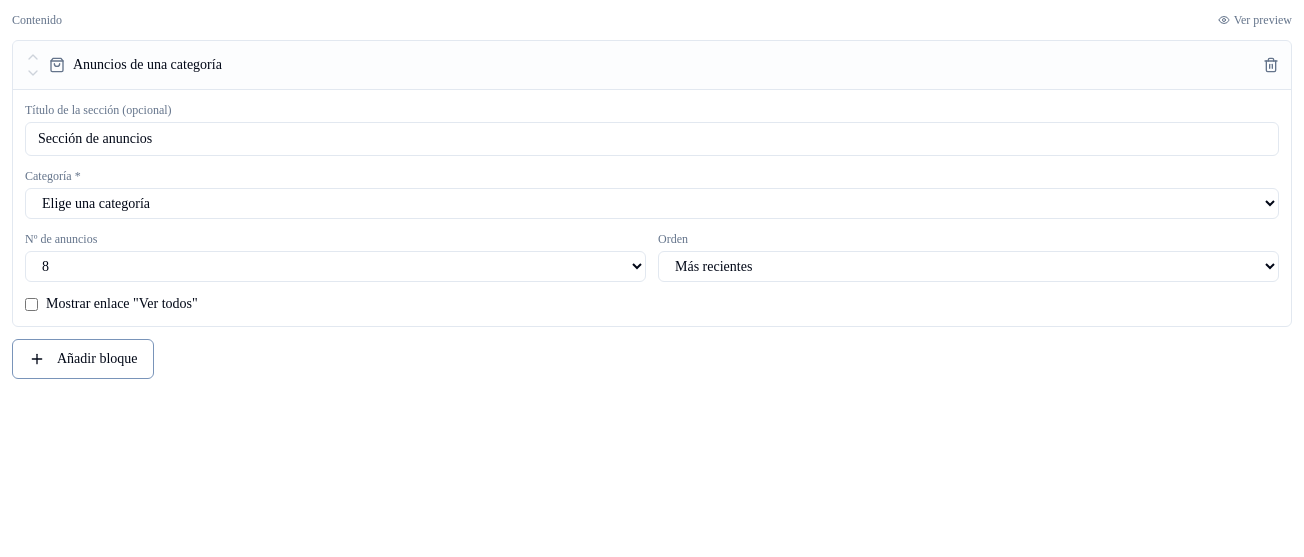
Test: BlockEditor — Ráfaga 3 (listings: primer bloque dinámico) › preview: resuelve datos client-side vía search() y pinta el bloque listings con el mismo BlockRenderer
The image size is (1304, 557).
Click the button "Ver preview": (1255, 20) [1218,12,1292,28]
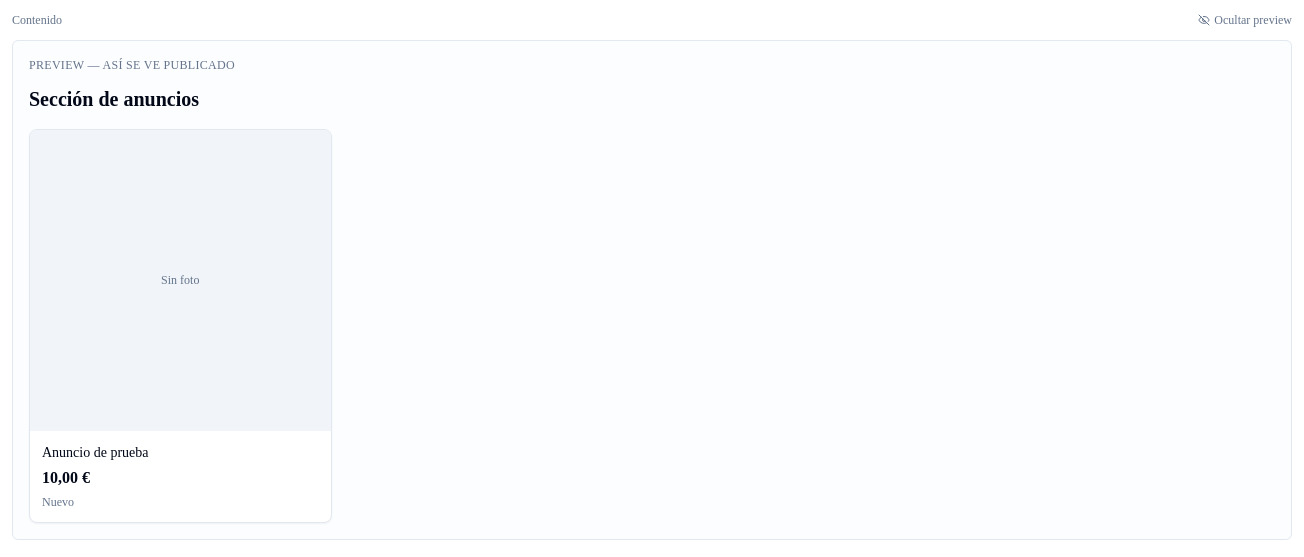
Now the text "Anuncio de prueba" is shown, box [42,444,148,460]
Now the heading "Sección de anuncios" is shown, box [29,88,199,110]
